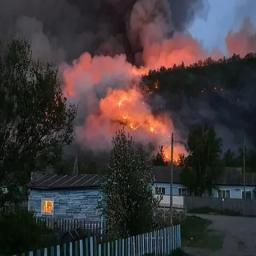Heavy smoke: (21, 6, 222, 149)
Large fire: (102, 90, 189, 165)
